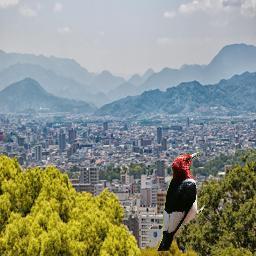Woodpecker: (155, 150, 205, 251)
